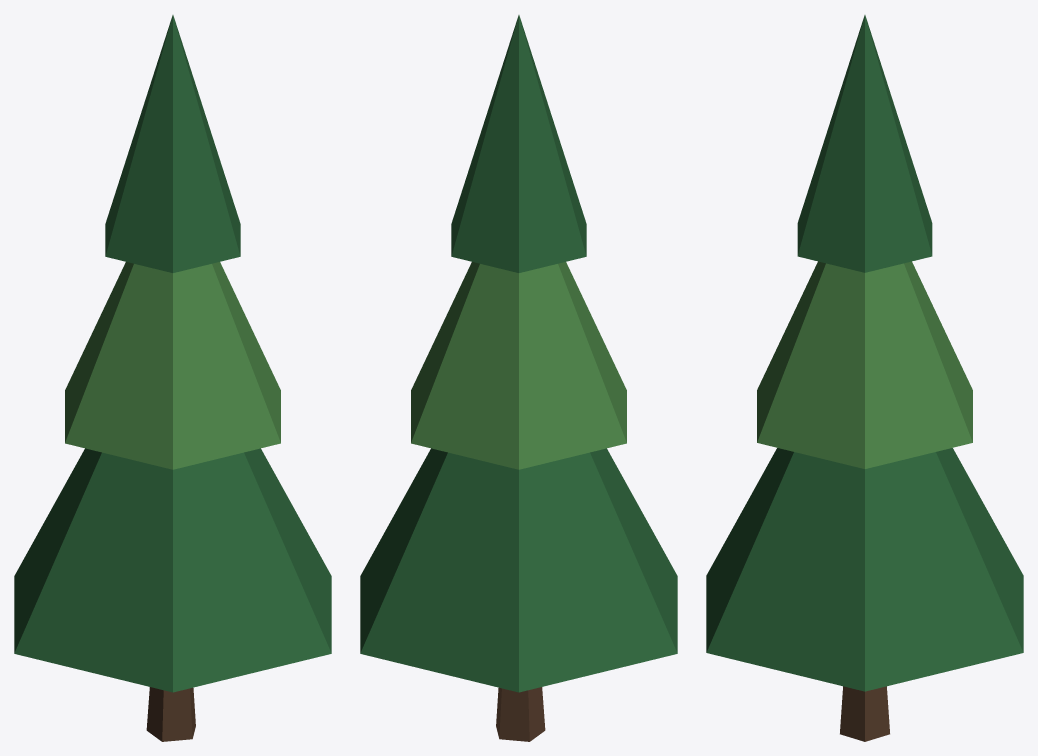
Rendered from tree_pine_a_lod.glb.
3 views of the same model, side by side, from view 1: azimuth 30°, elevation 25°; view 2: azimuth 150°, elevation 25°; view 3: azimuth 270°, elevation 25° (orthographic).
Visible parts, largest first — view 1: Body; view 2: Body; view 3: Body.
Boxes of the visible parts, x1=… form: Body: x1=14, y1=15, x2=331, y2=741; Body: x1=360, y1=15, x2=677, y2=741; Body: x1=706, y1=15, x2=1023, y2=741.
Size of the model in its own units: 4.7 by 10.15 by 4.07.
